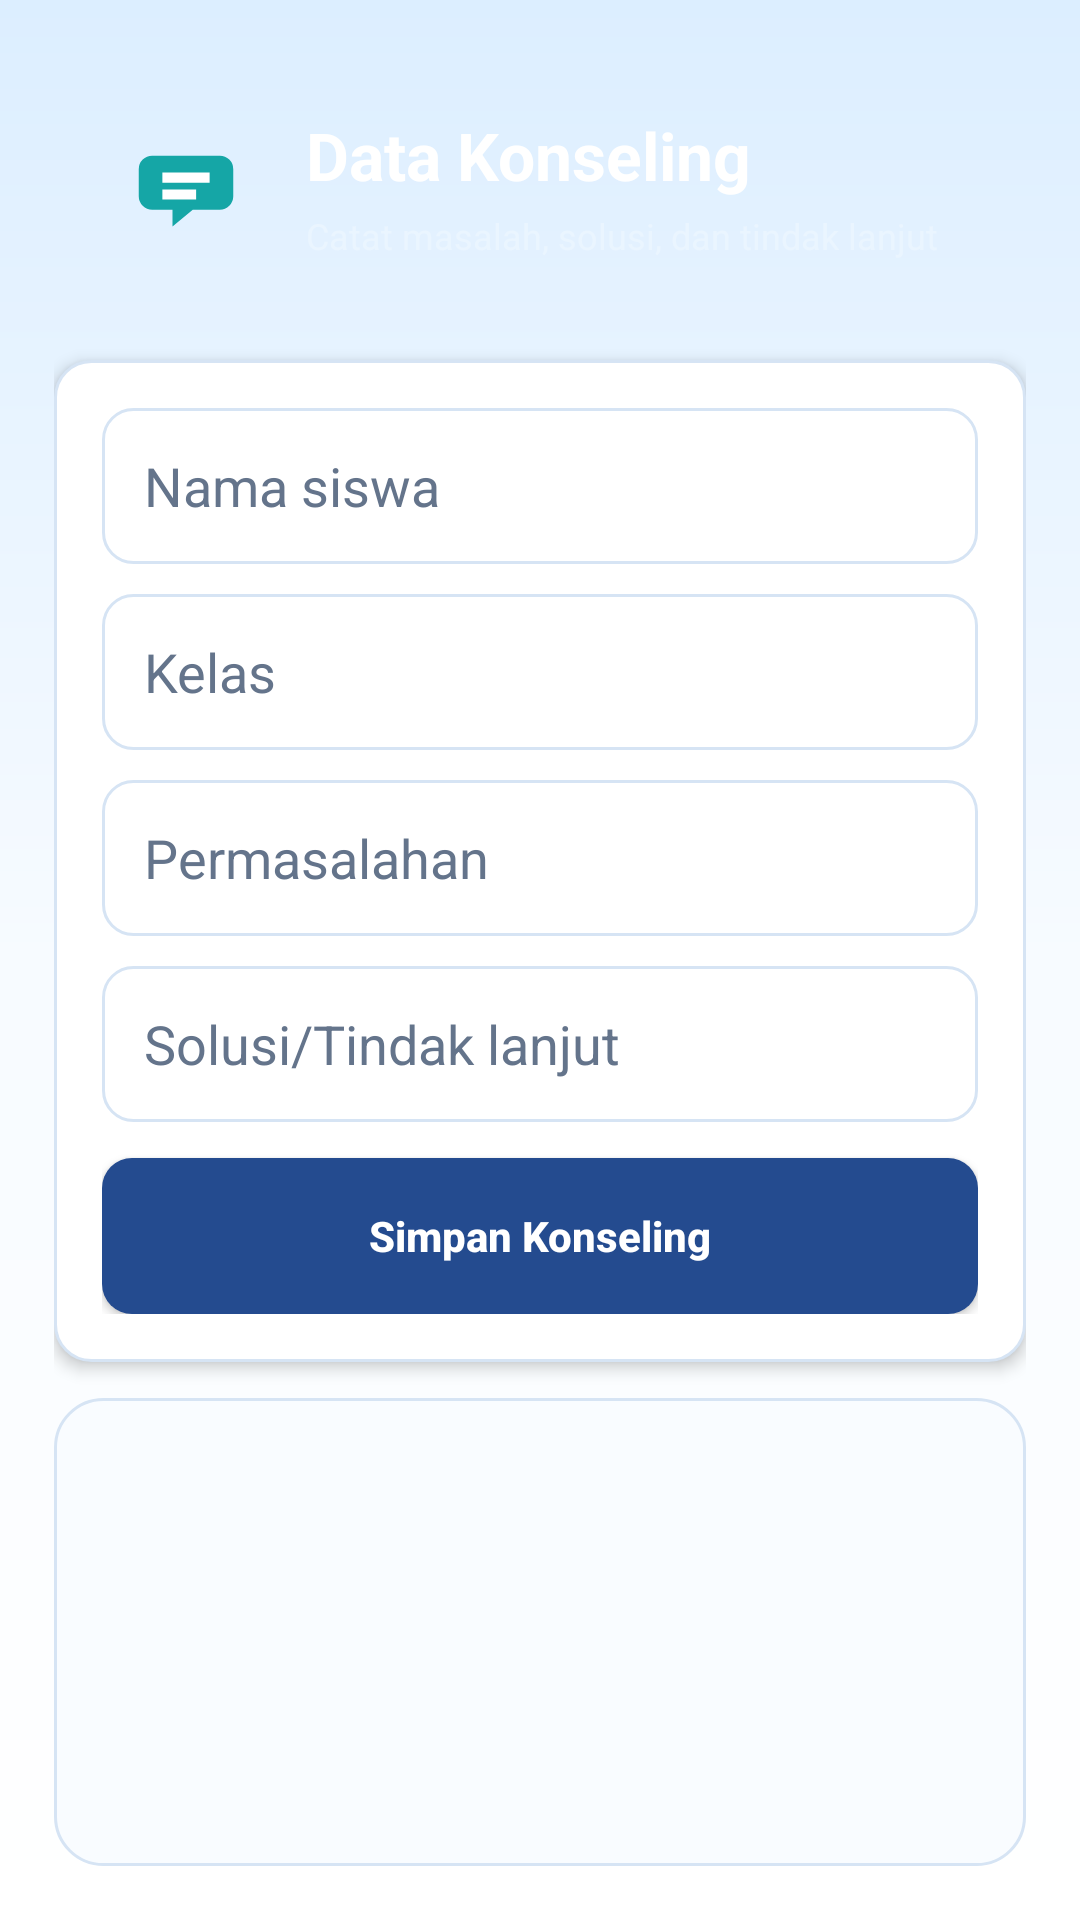

Point at icon controls on the screen. Image size 1080 x 1920, points as point (x, y).
Ikon konseling: point (186, 191)
